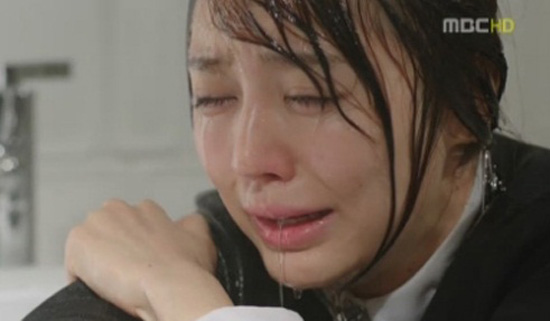sad: (192, 19, 403, 289)
